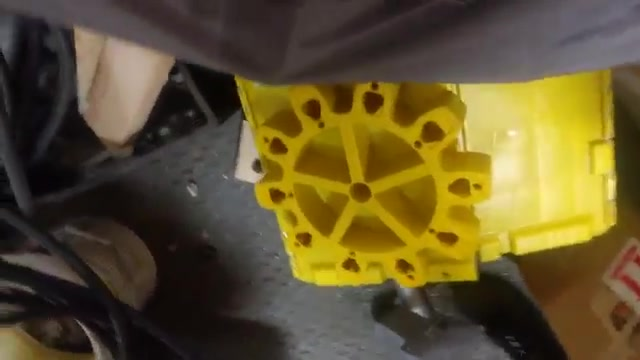gear: (227, 75, 504, 304)
